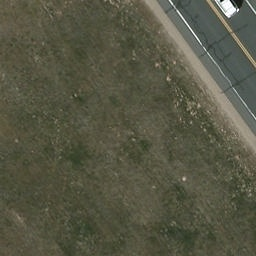car: (206, 0, 242, 19)
